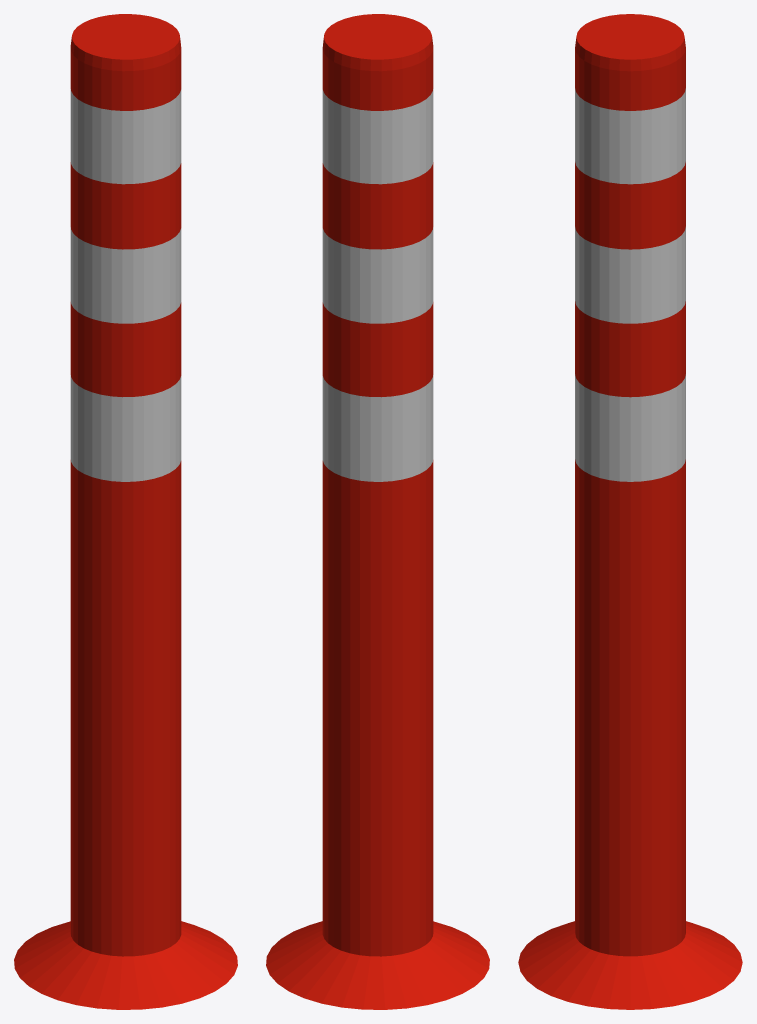
The model's file is guide_poul.fbx.
3 renders of one model, left to right at view 1: azimuth 30°, elevation 25°; view 2: azimuth 150°, elevation 25°; view 3: azimuth 270°, elevation 25°, orthographic.
Parts seen in each view (by area): view 1: Cylinder; view 2: Cylinder; view 3: Cylinder.
Part boxes in pixels (box(x1,y1,x2,y2)): Cylinder: box(14, 14, 237, 1009); Cylinder: box(266, 14, 489, 1009); Cylinder: box(518, 14, 742, 1009).
Bounding box in the file's own units: 98.68 × 449 × 98.68.
